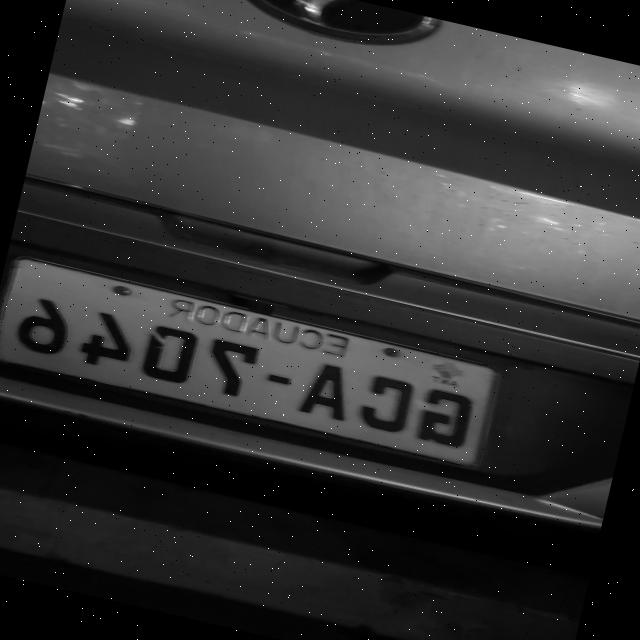Placa: (0, 259, 495, 465)
